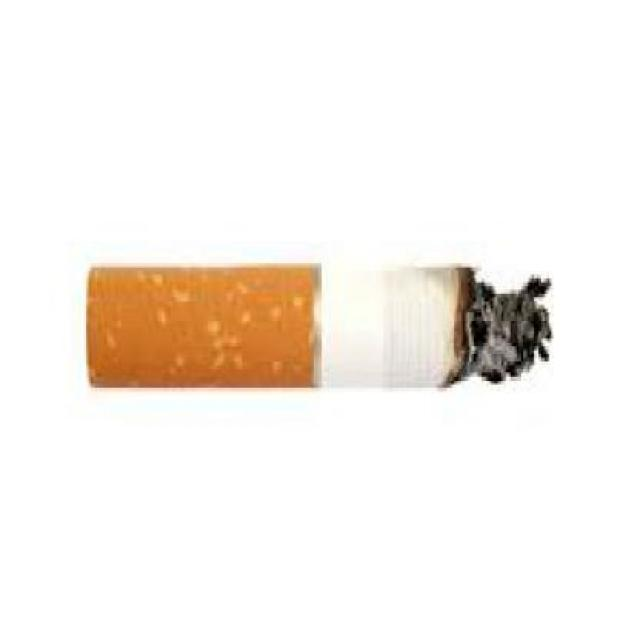cigarette: (58, 238, 550, 433)
